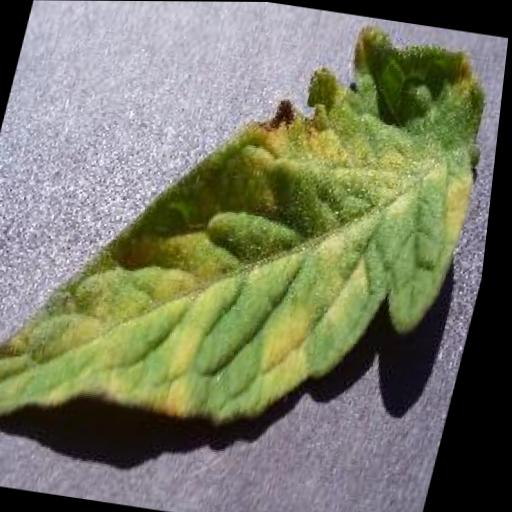Leaf Mold: (0, 0, 512, 480)
